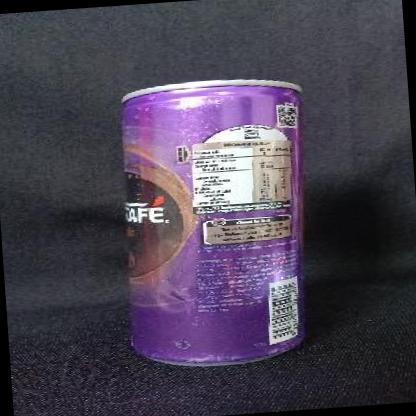alumunium_can: (114, 75, 320, 372)
